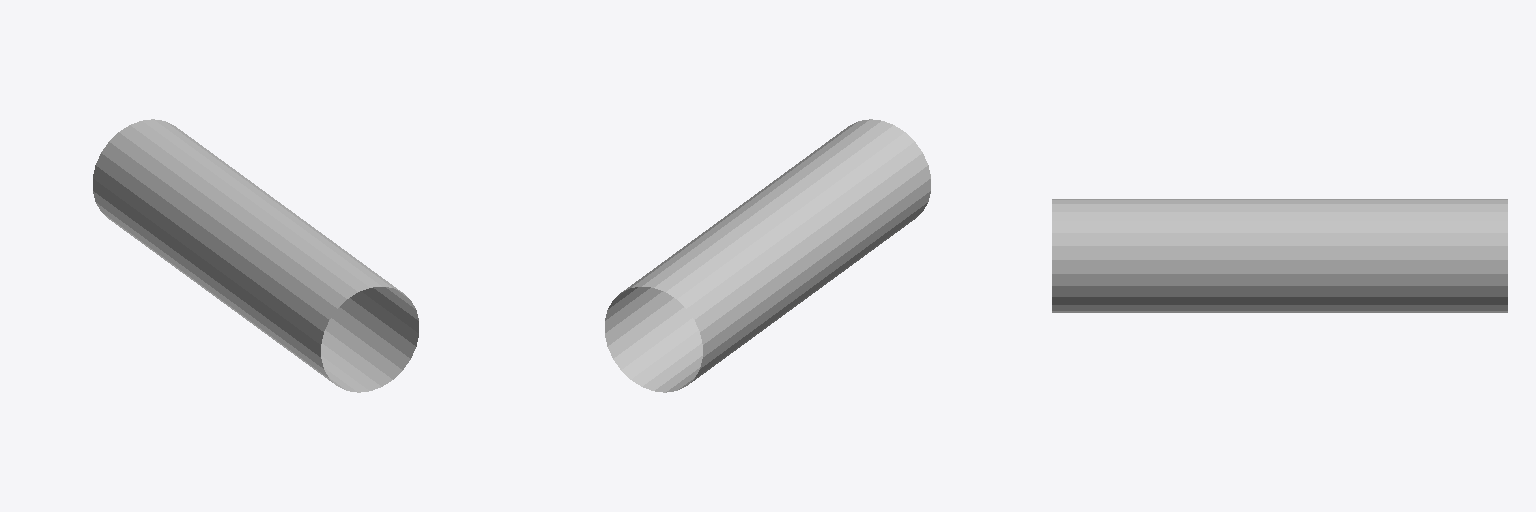
The model's file is Prop_Obstacle_Swinging_Hammer_Rod.obj.
3 views of the same model, side by side, from view 1: azimuth 30°, elevation 25°; view 2: azimuth 150°, elevation 25°; view 3: azimuth 270°, elevation 25° (orthographic).
Parts seen in each view (by area): view 1: object1; view 2: object1; view 3: object1.
Part boxes in pixels (x1,y1,x2,y2): object1: (93, 119, 418, 392); object1: (605, 119, 930, 392); object1: (1052, 199, 1507, 312).
Size of the model in its own units: 0.2482 by 0.25 by 1.